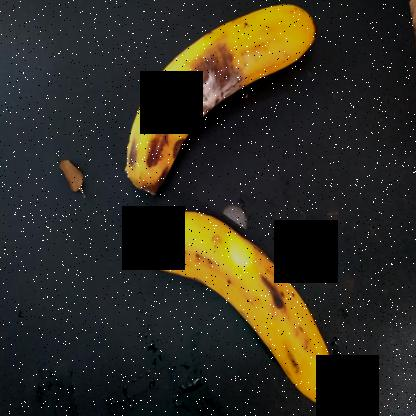ripe: (137, 202, 339, 415)
rotten: (114, 4, 333, 194)
